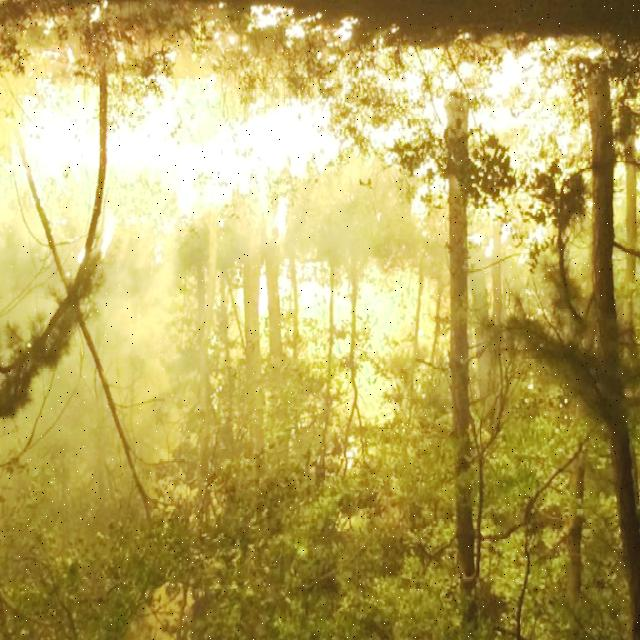api: (9, 49, 603, 239), (232, 271, 446, 373), (340, 376, 397, 428)
asap: (3, 263, 203, 498)
